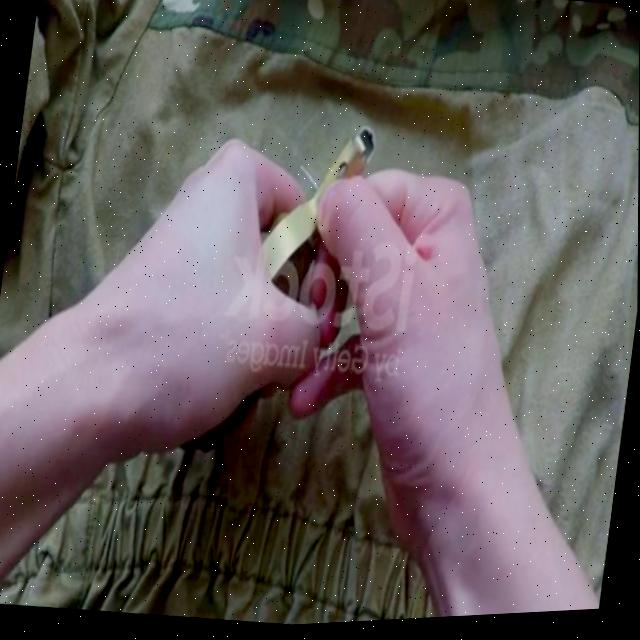grenade: (197, 114, 375, 459)
